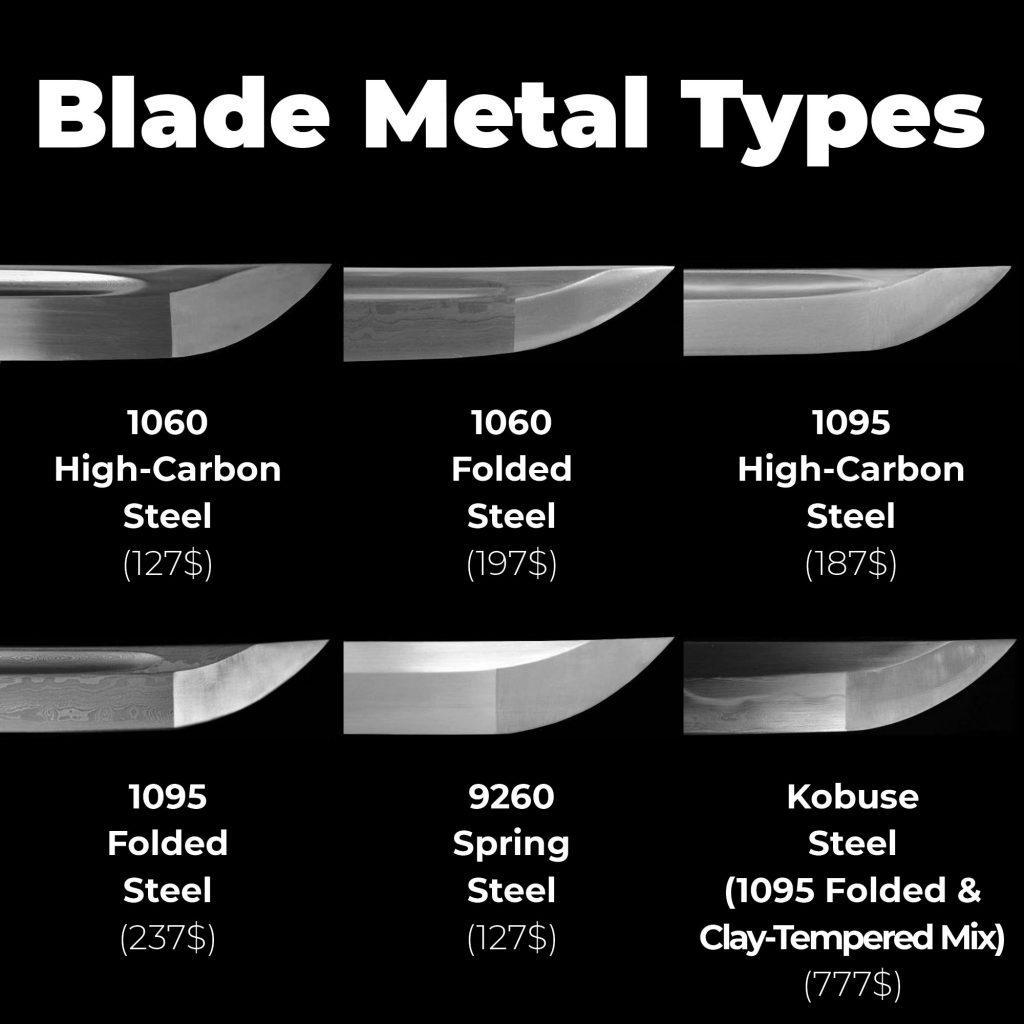faca: (344, 638, 671, 735), (344, 266, 671, 361), (685, 642, 1014, 734), (0, 641, 326, 732), (684, 268, 1009, 355)
